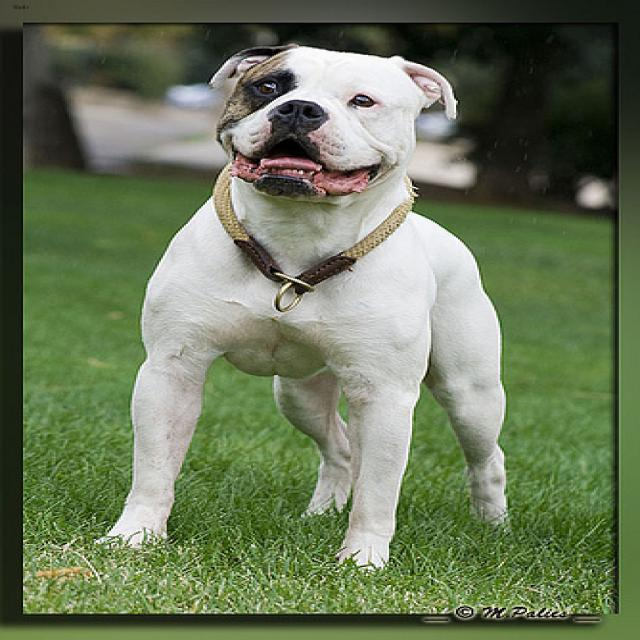dog-american_bulldog: (82, 36, 529, 579)
